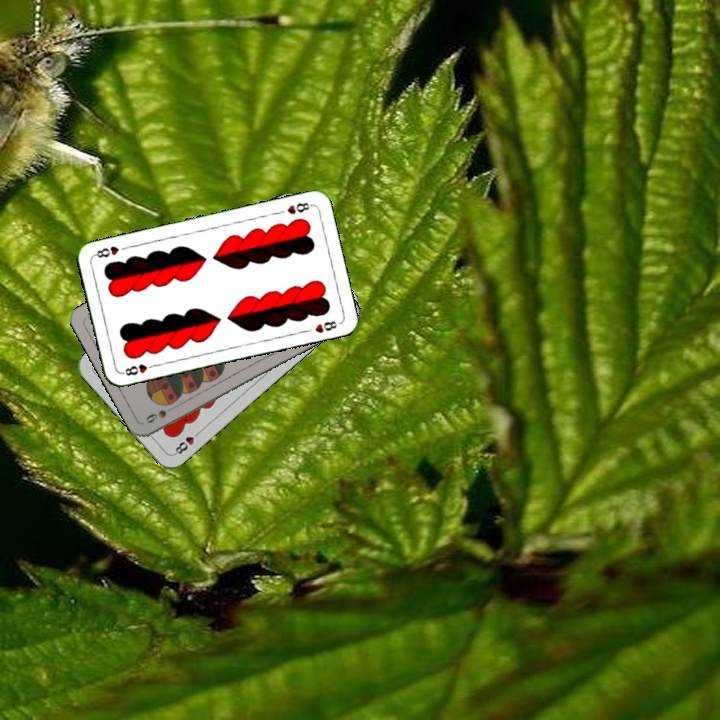H8: (170, 427, 203, 457), (118, 360, 158, 378), (283, 198, 315, 217)
S9: (141, 401, 179, 426)
